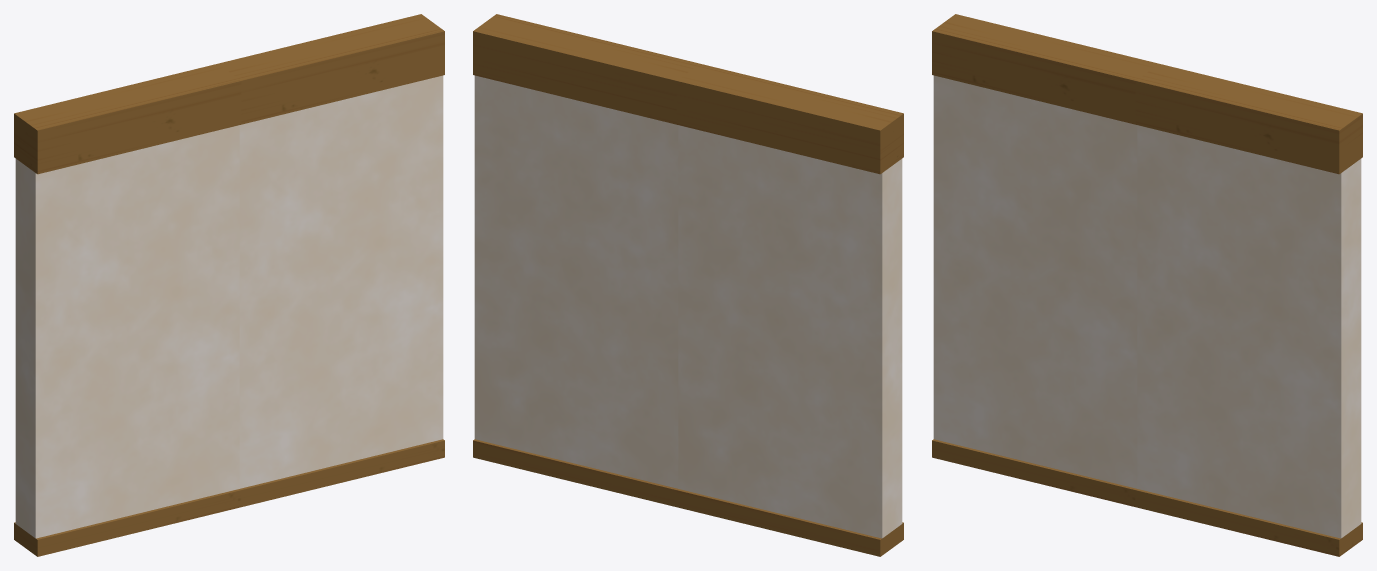
Rendered from wall_2.fbx.
3 views of the same model, side by side, from view 1: azimuth 30°, elevation 25°; view 2: azimuth 150°, elevation 25°; view 3: azimuth 330°, elevation 25° (orthographic).
Visible parts, largest first — view 1: wall02; view 2: wall02; view 3: wall02.
Boxes of the visible parts, <box> form: wall02: <box>14,14,444,556</box>; wall02: <box>473,14,903,556</box>; wall02: <box>932,14,1362,556</box>.
Bounding box in the file's own units: 200 × 200 × 20.
